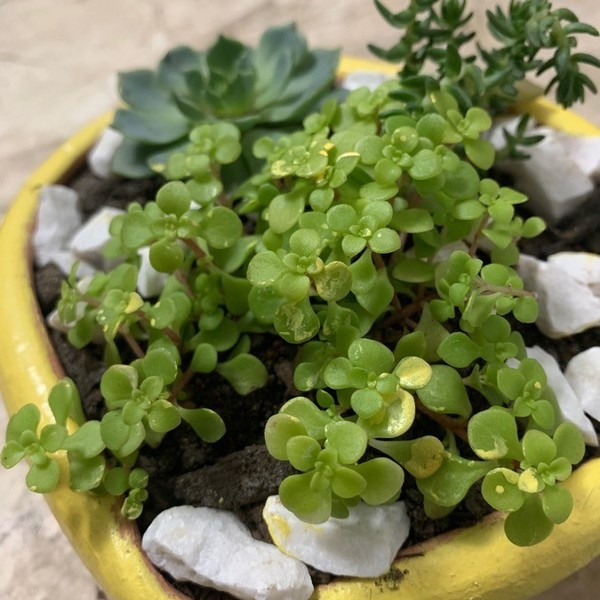obstacle: (28, 24, 575, 577)
